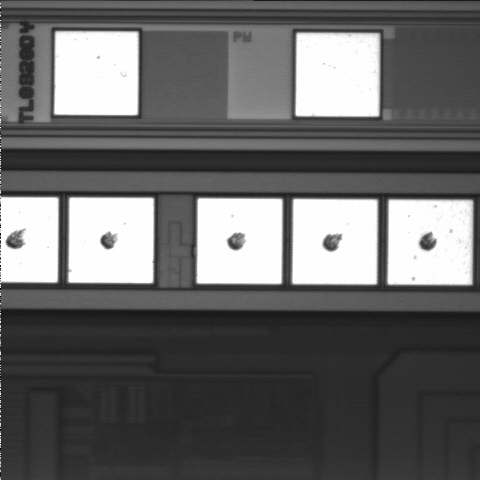pad: (197, 198, 282, 284), (69, 198, 154, 283), (292, 199, 377, 284), (388, 200, 472, 285), (54, 32, 138, 115), (296, 33, 379, 116)
